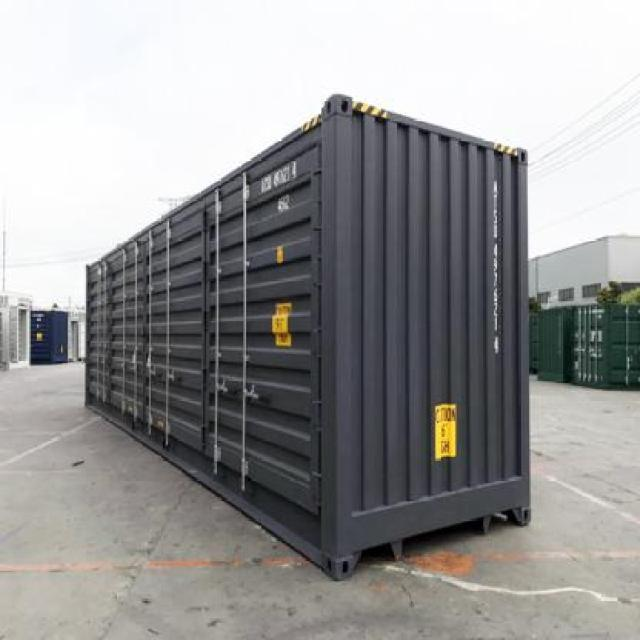container_number: (486, 174, 504, 356)
